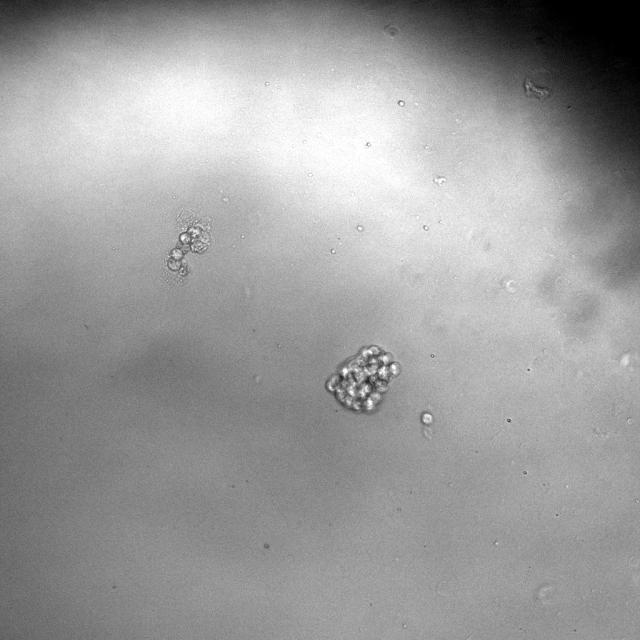organoid: (326, 345, 400, 412), (164, 212, 212, 283), (523, 68, 555, 100), (421, 411, 432, 424)
